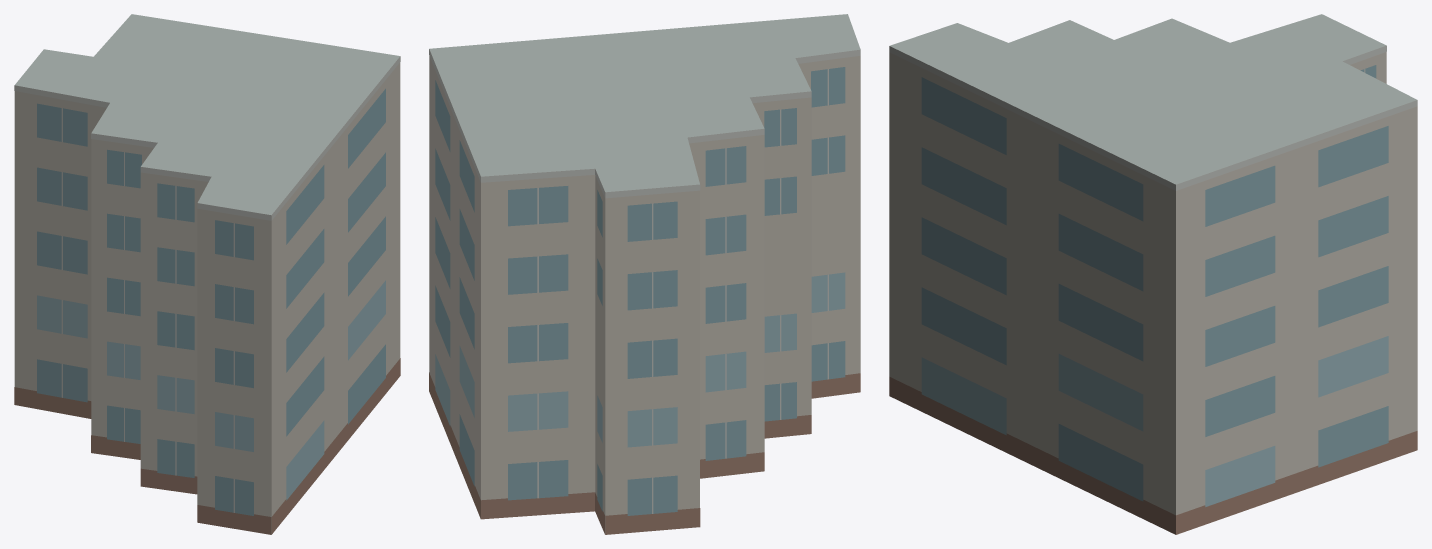
File: survey-upis-32759186.glb
The picture shows the model from 3 angles, left to right: view 1: azimuth 30°, elevation 25°; view 2: azimuth 150°, elevation 25°; view 3: azimuth 270°, elevation 25°; orthographic projection. The views are drawn at different scales.
Parts seen in each view (by area): view 1: survey-upis-32759186.tmp; view 2: survey-upis-32759186.tmp; view 3: survey-upis-32759186.tmp.
Boxes of the visible parts, <box> form: survey-upis-32759186.tmp: <box>14,14,400,534</box>; survey-upis-32759186.tmp: <box>429,14,860,534</box>; survey-upis-32759186.tmp: <box>889,14,1417,534</box>.
Bounding box in the file's own units: 14.28 × 13.65 × 18.67.
